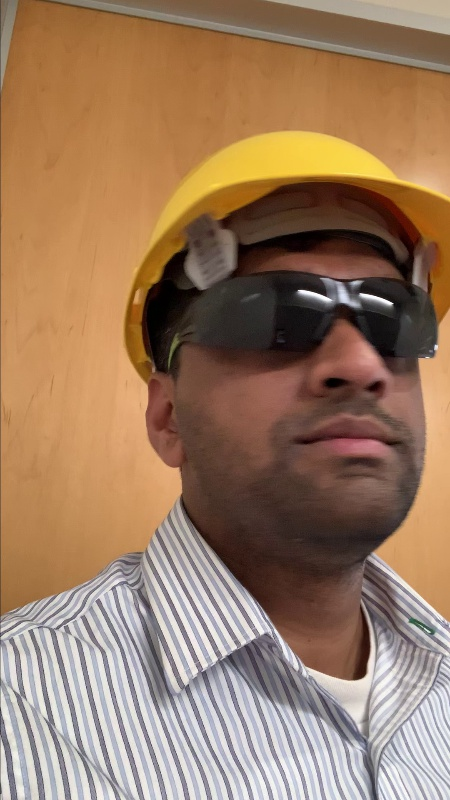glasses: (144, 276, 450, 361)
helmet: (112, 122, 450, 277)
